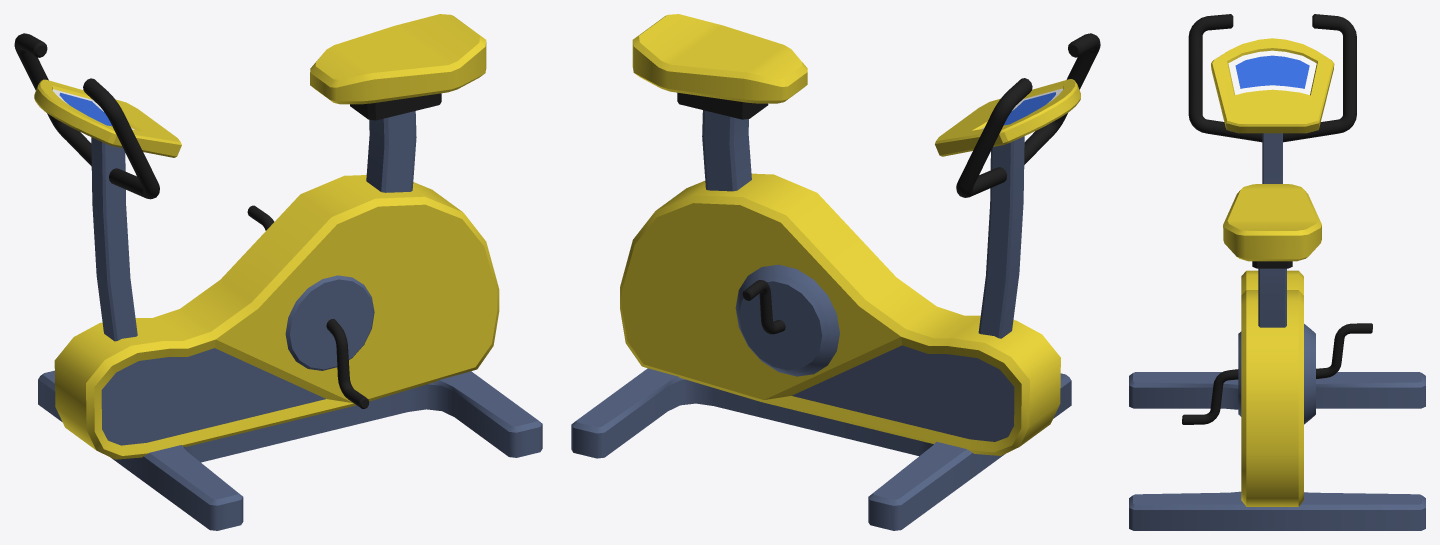
File: bike.fbx
3 renders of one model, left to right at view 1: azimuth 30°, elevation 25°; view 2: azimuth 150°, elevation 25°; view 3: azimuth 270°, elevation 25°, orthographic. The views are drawn at different scales.
Parts seen in each view (by area): view 1: Hypercasual_Gym_Training2, Hypercasual_Gym_Training2_1; view 2: Hypercasual_Gym_Training2, Hypercasual_Gym_Training2_1; view 3: Hypercasual_Gym_Training2, Hypercasual_Gym_Training2_1.
Part boxes in pixels (box(x1,y1,x2,y2)): Hypercasual_Gym_Training2: box(14, 14, 542, 530); Hypercasual_Gym_Training2_1: box(247, 205, 374, 408); Hypercasual_Gym_Training2: box(571, 14, 1100, 530); Hypercasual_Gym_Training2_1: box(735, 264, 839, 376); Hypercasual_Gym_Training2: box(1129, 14, 1425, 530); Hypercasual_Gym_Training2_1: box(1182, 323, 1372, 424).
Size of the model in its own units: 2.41 by 2.23 by 1.69.
